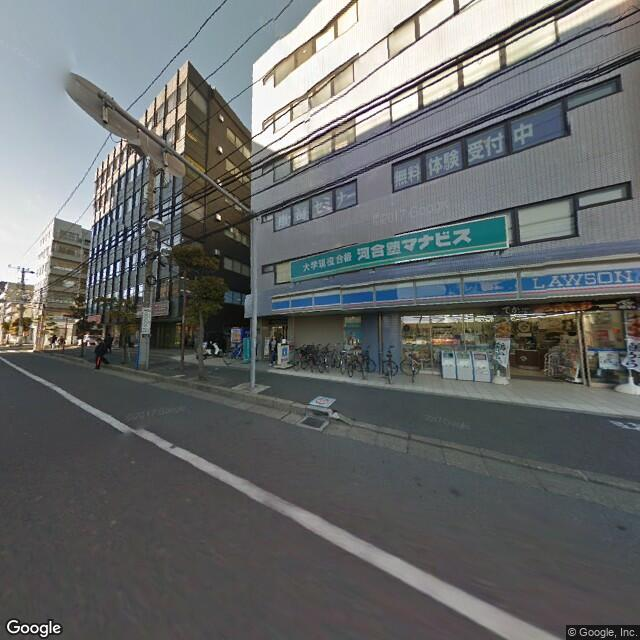lawson: (270, 256, 638, 319), (280, 342, 290, 361)
